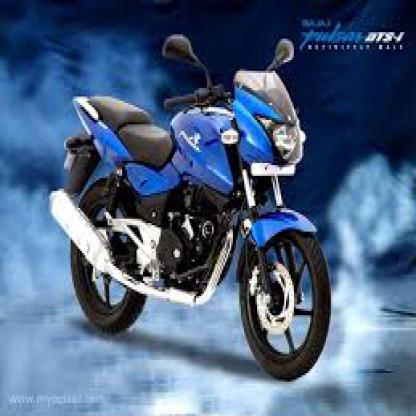bike: (50, 30, 344, 380)
